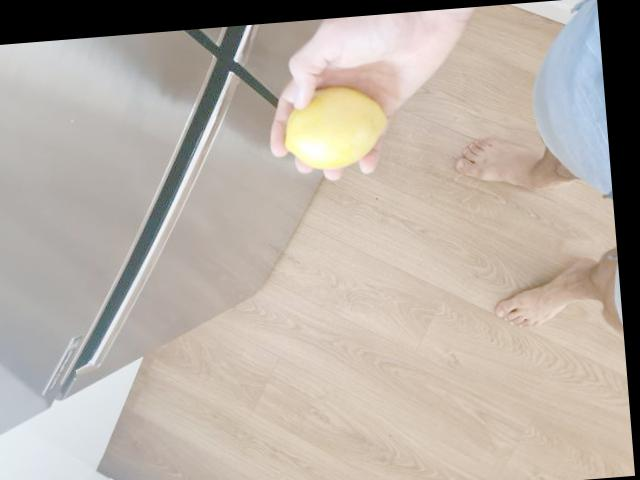lemon: (280, 90, 390, 173)
